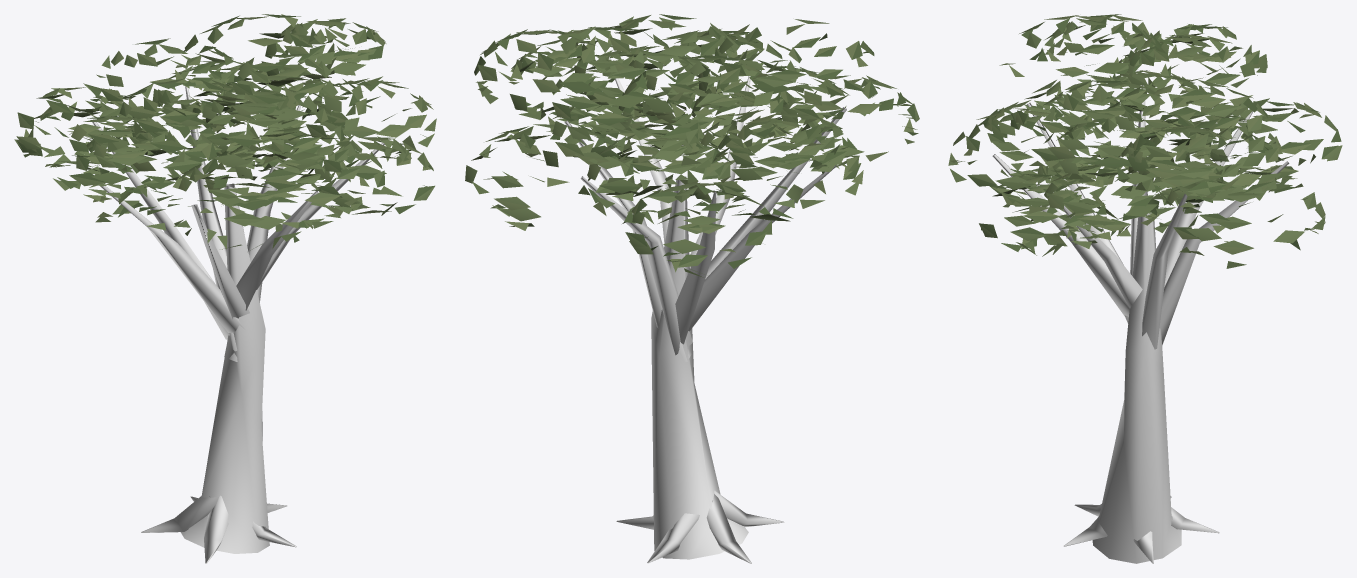
File: SM_XF_Canopy_2.fbx
3 views of the same model, side by side, from view 1: azimuth 30°, elevation 25°; view 2: azimuth 150°, elevation 25°; view 3: azimuth 270°, elevation 25° (orthographic). The views are drawn at different scales.
Parts seen in each view (by area): view 1: SM_XF_Canopy_2; view 2: SM_XF_Canopy_2; view 3: SM_XF_Canopy_2.
Boxes of the visible parts, bbox=[...] form: SM_XF_Canopy_2: bbox=[14, 14, 436, 563]; SM_XF_Canopy_2: bbox=[465, 14, 919, 563]; SM_XF_Canopy_2: bbox=[948, 14, 1342, 563].
Bounding box in the file's own units: 489 × 447 × 608.
